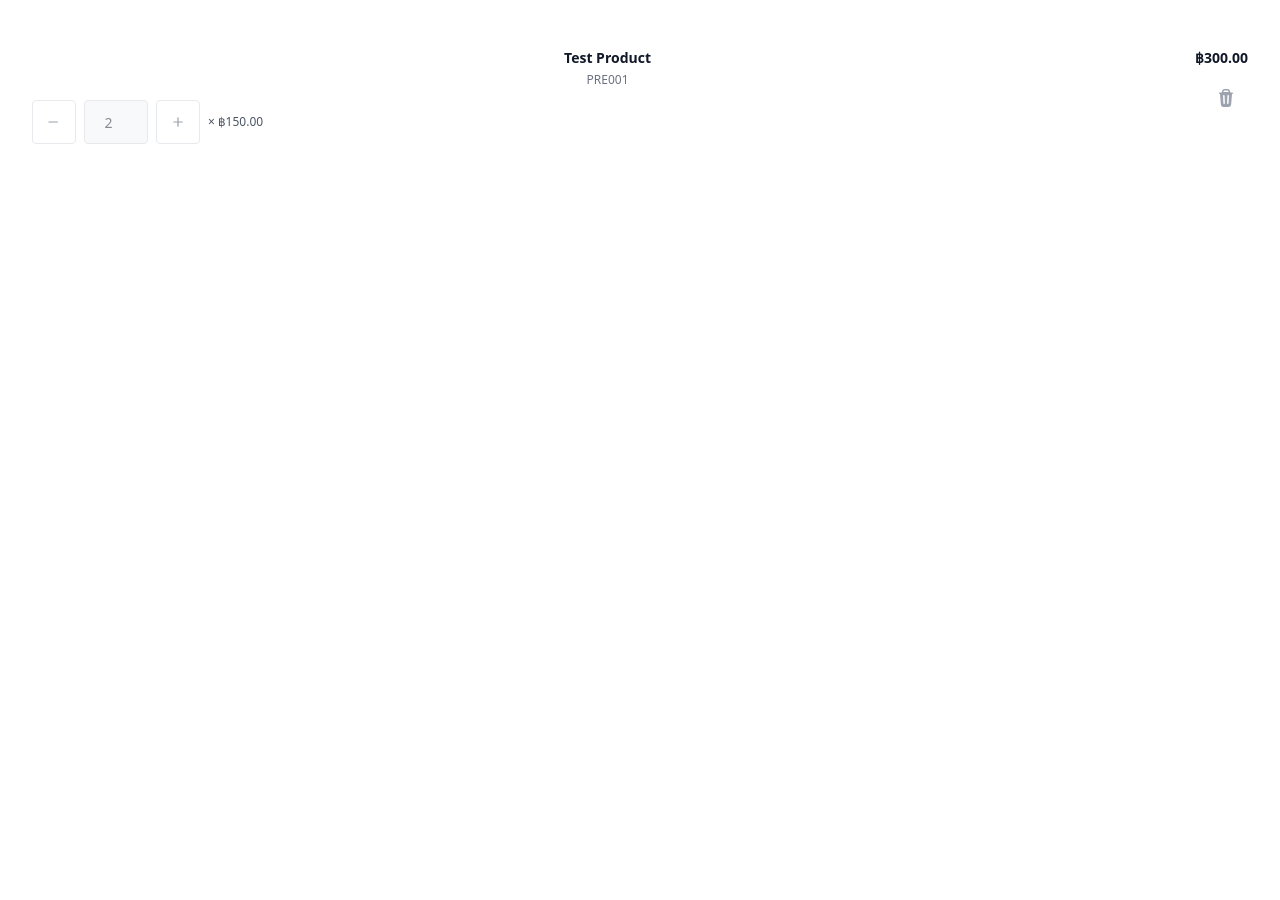
Scenario: CartItem Component - Quantity Controls › Remove button › shows confirmation dialog when clicked
The width and height of the screenshot is (1280, 900).
Click the button named "Remove Test Product from cart": click(1226, 98) [1204,76,1248,120]
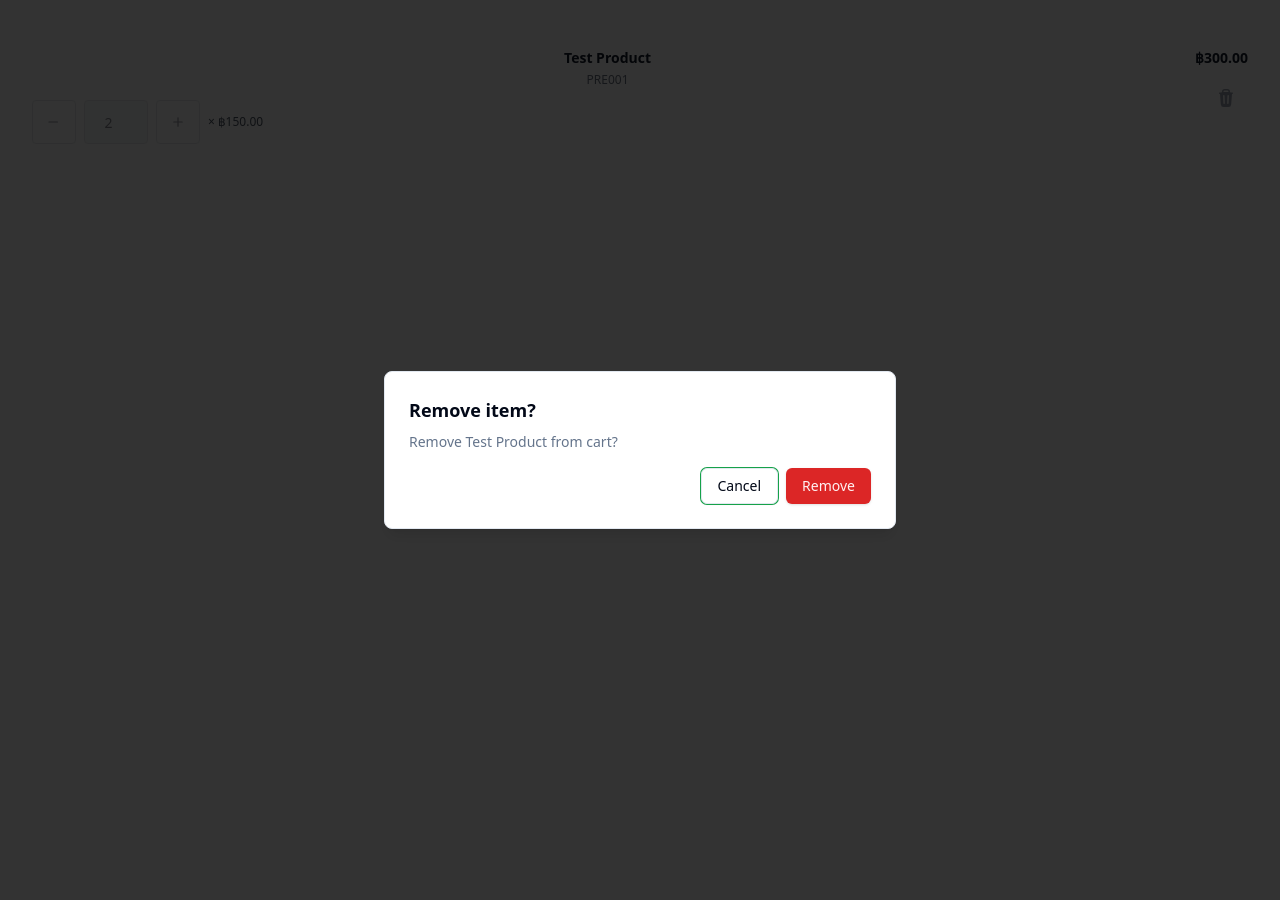
Check: the heading "Remove item?" is shown, box [409,398,536,422]
Check: the dialog is shown, box [384,371,896,529]
